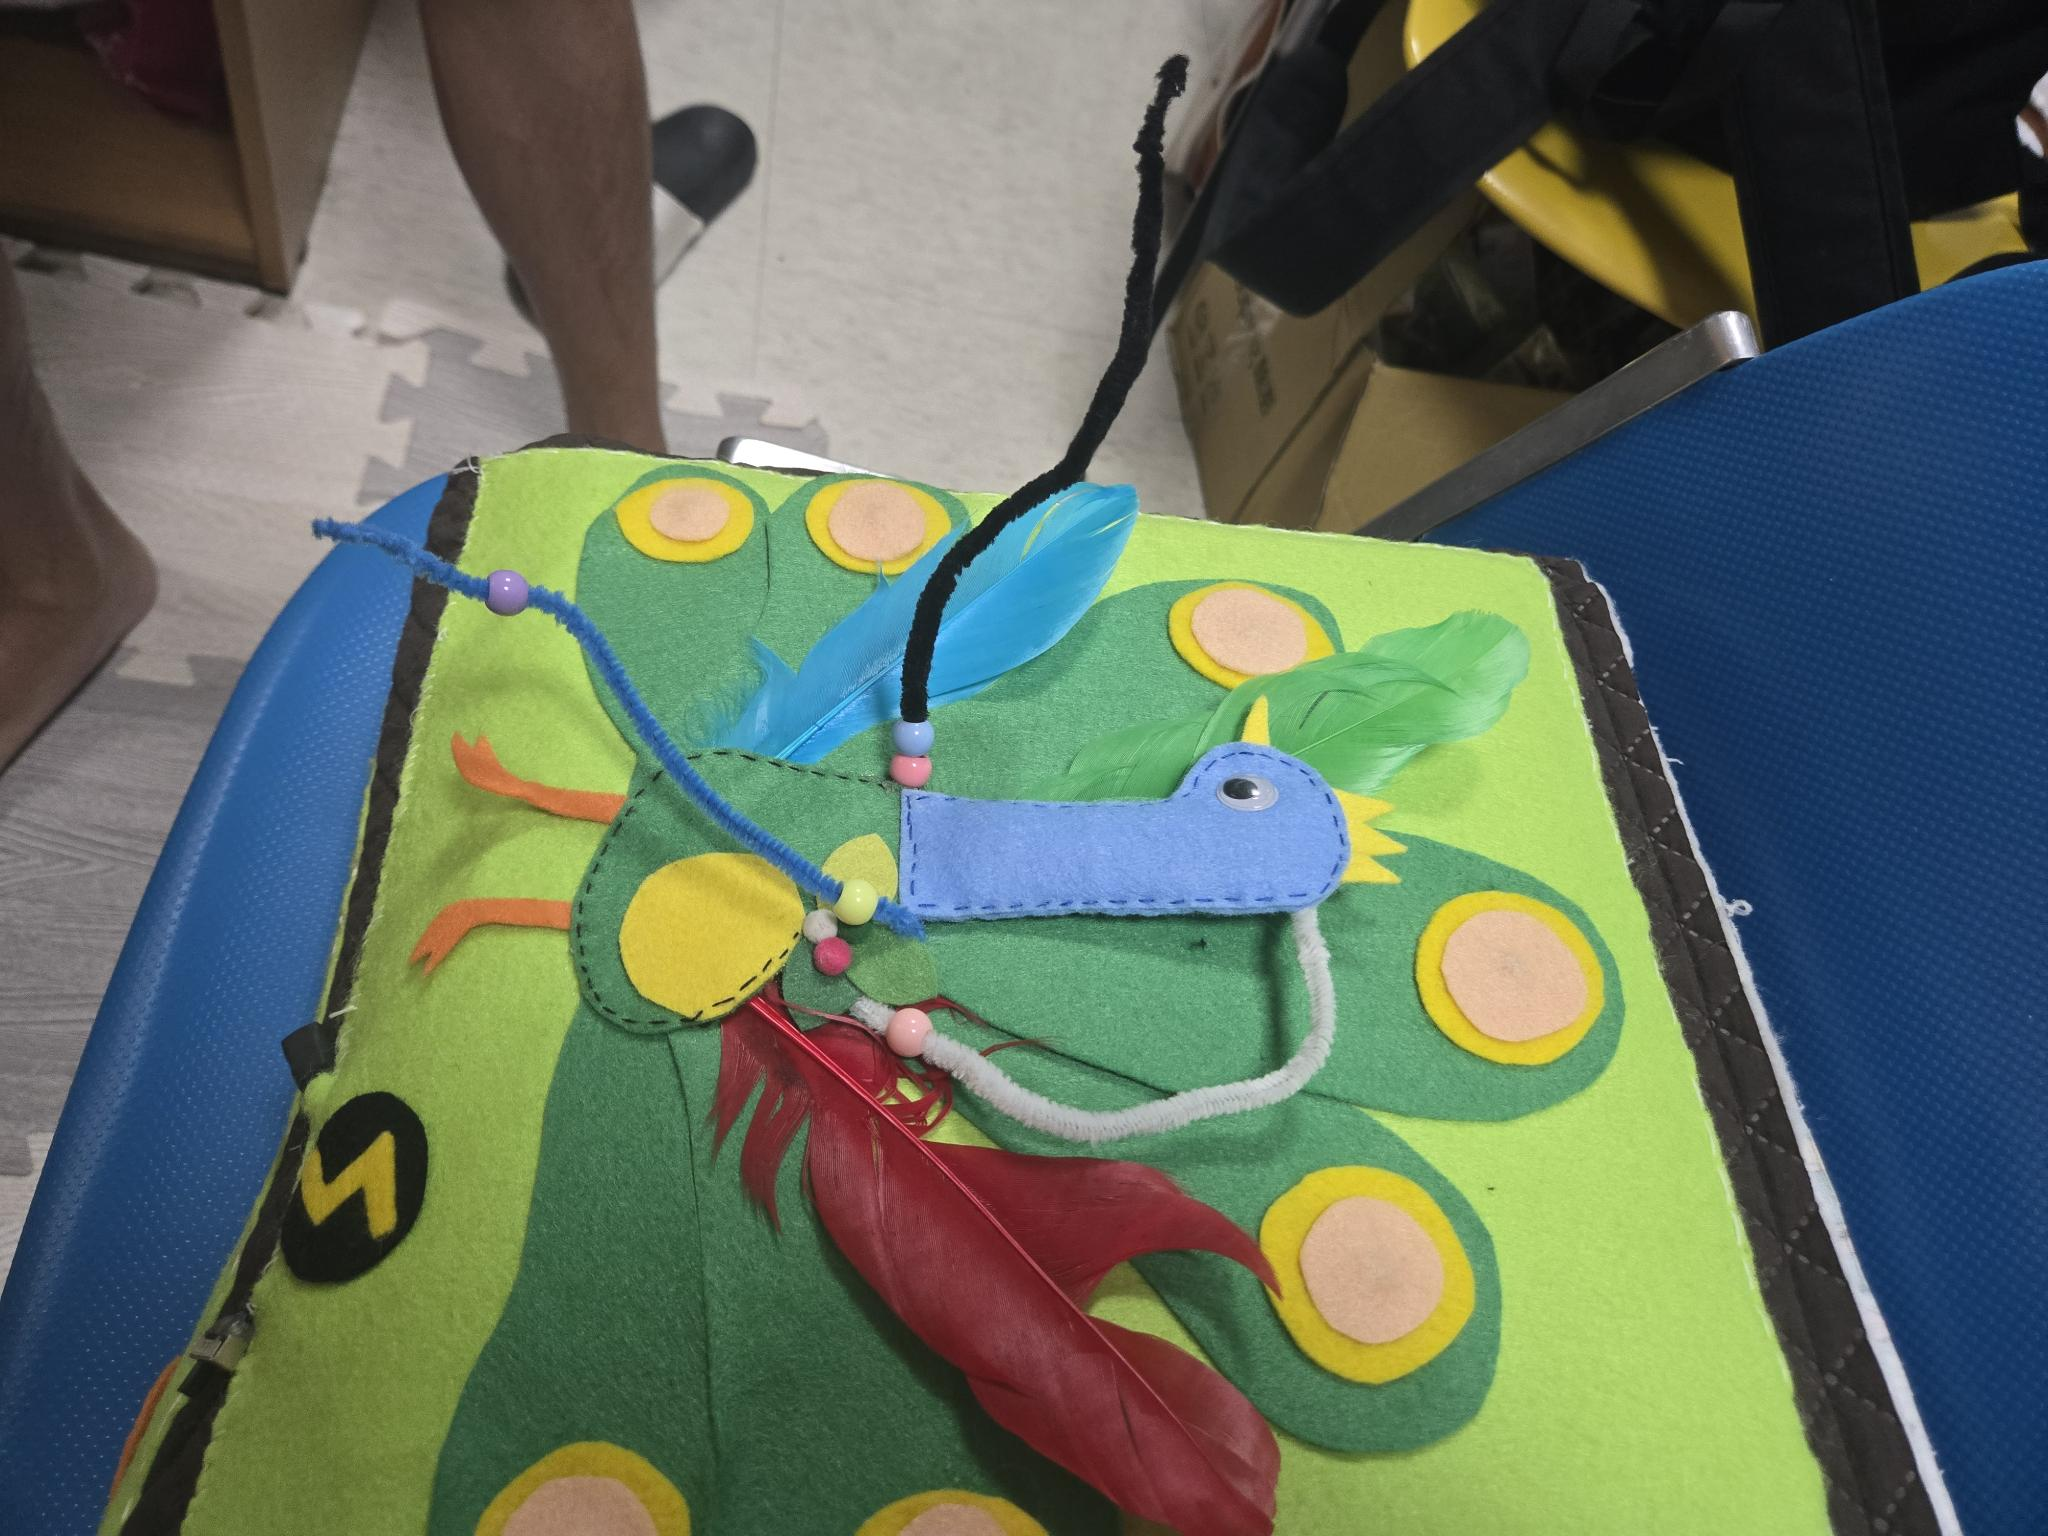bead: (885, 699, 942, 762), (476, 557, 529, 616), (885, 1002, 930, 1058), (885, 745, 934, 797)
